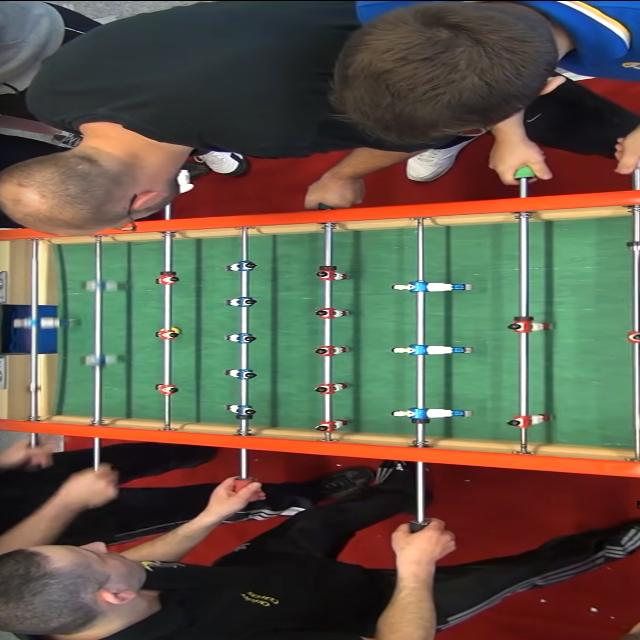ball: (161, 322, 179, 338)
